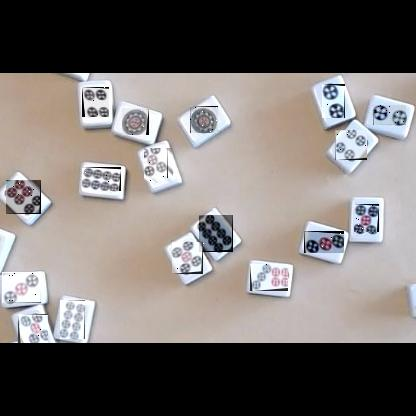1p: (190, 106, 218, 133), (122, 108, 149, 135)
2p: (322, 84, 345, 118), (373, 105, 406, 125)
3p: (2, 272, 41, 303), (304, 231, 344, 253)
4p: (335, 130, 367, 160), (82, 87, 109, 117)
5p: (172, 242, 203, 274), (145, 149, 173, 183), (18, 314, 48, 343), (354, 204, 379, 232)
6p: (6, 180, 41, 214)
7p: (250, 264, 288, 291)
8p: (199, 215, 233, 252), (60, 300, 85, 339), (82, 167, 121, 191)
